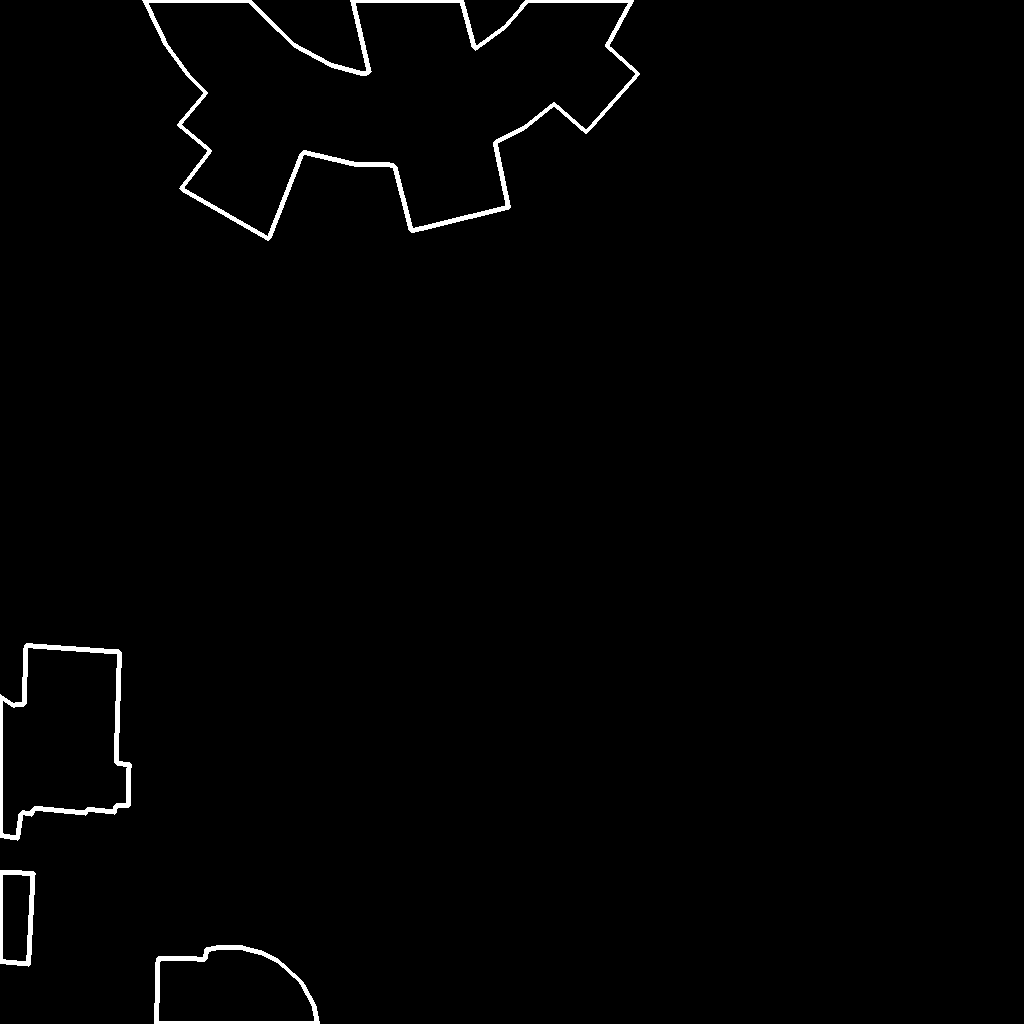building: (144, 0, 639, 240), (0, 645, 130, 965), (156, 947, 319, 1024)
